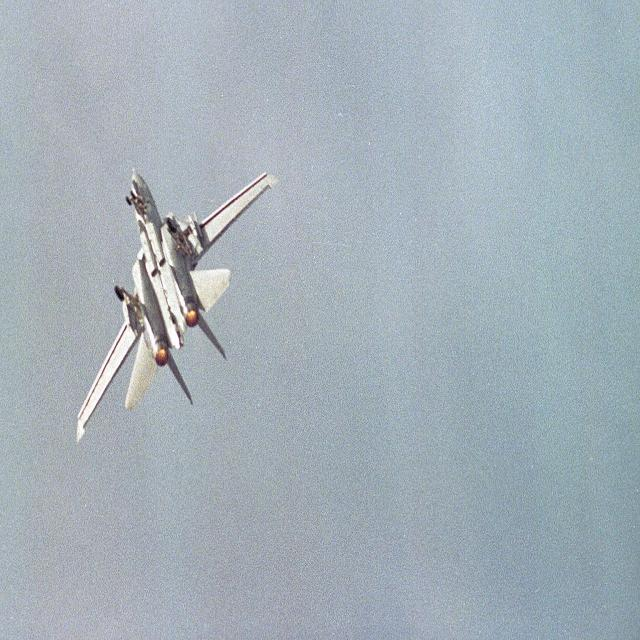MIL_Plane: (75, 169, 279, 443)
